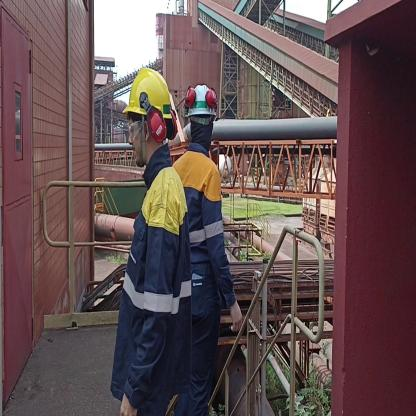Balaclava: (191, 117, 215, 151)
C_eletrica: (116, 180, 191, 403)
Capacete: (127, 68, 176, 120), (188, 81, 216, 119)
Operacional: (186, 151, 230, 286)
